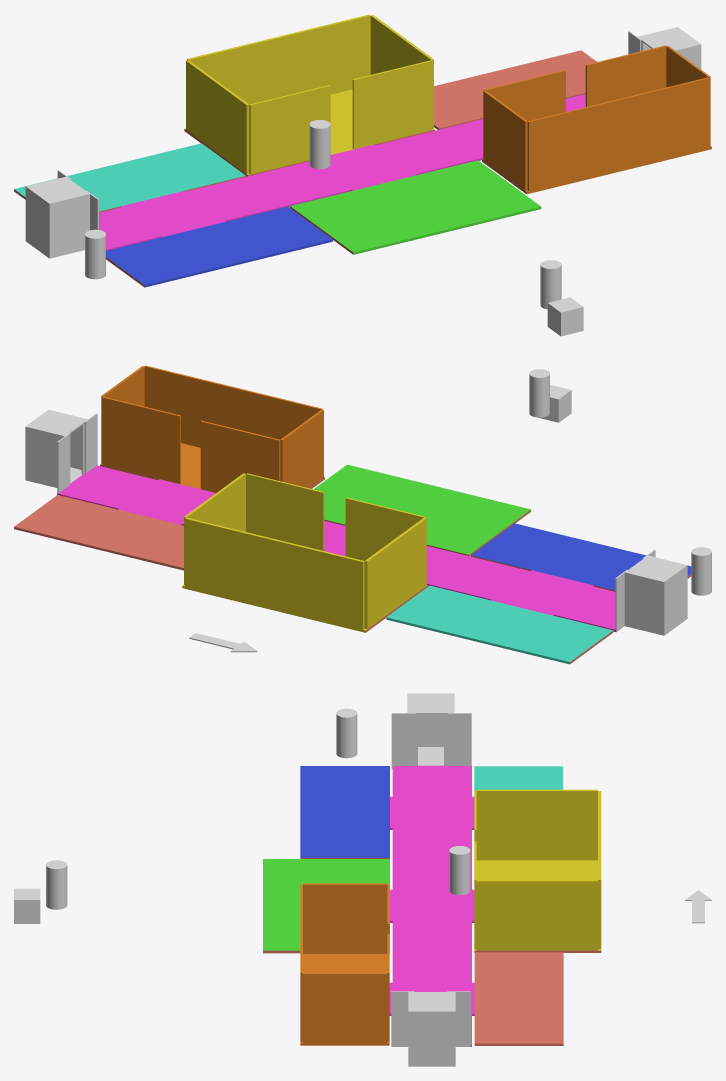
The model's file is Greybox_Floor 1.fbx.
The picture shows the model from 3 angles, top to bottom: view 1: azimuth 30°, elevation 25°; view 2: azimuth 150°, elevation 25°; view 3: azimuth 270°, elevation 25°; orthographic projection. The views are drawn at different scales.
Parts seen in each view (by area): view 1: 25X3X0.1 Floor, Elevator, Elevator.001, 1S1 Cube, Human.002, Human.001, Human; view 2: 25X3X0.1 Floor, Elevator, Elevator.001, Human, Human.001, 1S1 Cube, Elevator Door.003, Elevator Door.002, Elevator Door, Directions; view 3: 25X3X0.1 Floor, Elevator.001, Elevator, Elevator Door.001, Elevator Door, Human.001, Human, Human.002, Elevator Door.003, 1S1 Cube, Elevator Door.002.
Boxes of the visible parts, box(x1,y1,x2,y2) form: 25X3X0.1 Floor: box(14, 14, 711, 287); Elevator: box(25, 176, 89, 258); Elevator.001: box(637, 27, 701, 69); 1S1 Cube: box(547, 297, 583, 336); Human.002: box(309, 120, 330, 168); Human.001: box(85, 229, 105, 279); Human: box(540, 260, 561, 309); 25X3X0.1 Floor: box(14, 365, 691, 664); Elevator: box(624, 555, 687, 635); Elevator.001: box(25, 409, 87, 487); Human: box(529, 369, 549, 417); Human.001: box(691, 547, 711, 595); 1S1 Cube: box(538, 384, 571, 422); Elevator Door.003: box(84, 413, 97, 473); Elevator Door.002: box(57, 433, 69, 493); Elevator Door: box(615, 570, 627, 631); Directions: box(189, 633, 257, 652); 25X3X0.1 Floor: box(263, 765, 601, 1046); Elevator.001: box(408, 992, 455, 1066); Elevator: box(407, 693, 454, 765); Elevator Door.001: box(391, 713, 415, 768); Elevator Door: box(448, 713, 471, 765); Human.001: box(336, 708, 357, 758); Human: box(46, 860, 67, 909); Human.002: box(449, 846, 470, 895); Elevator Door.003: box(391, 991, 414, 1046); 1S1 Cube: box(14, 888, 40, 923); Elevator Door.002: box(447, 991, 471, 1046).
Bounding box in the file's own units: 5709 × 689 × 5287.
